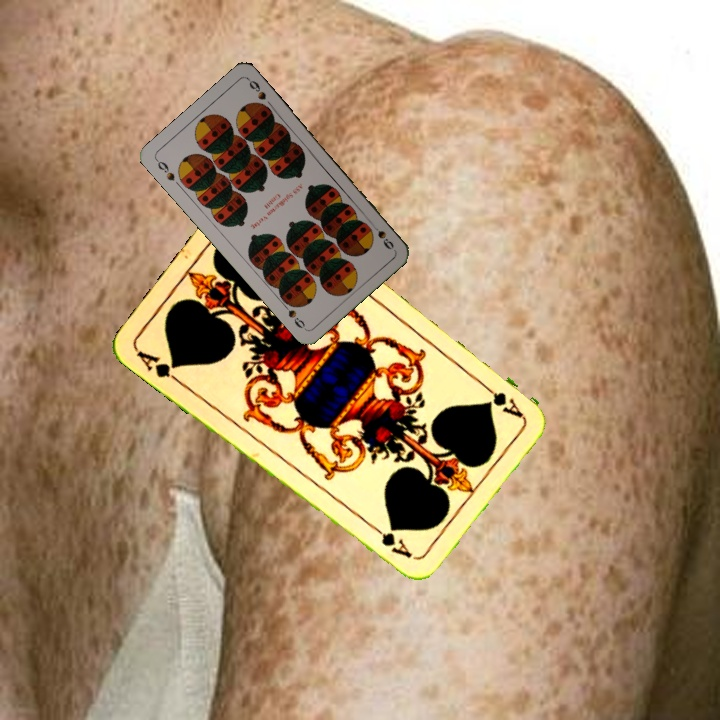GA: (131, 346, 184, 387), (475, 377, 525, 420)
S9: (366, 218, 396, 252), (152, 156, 178, 183)
